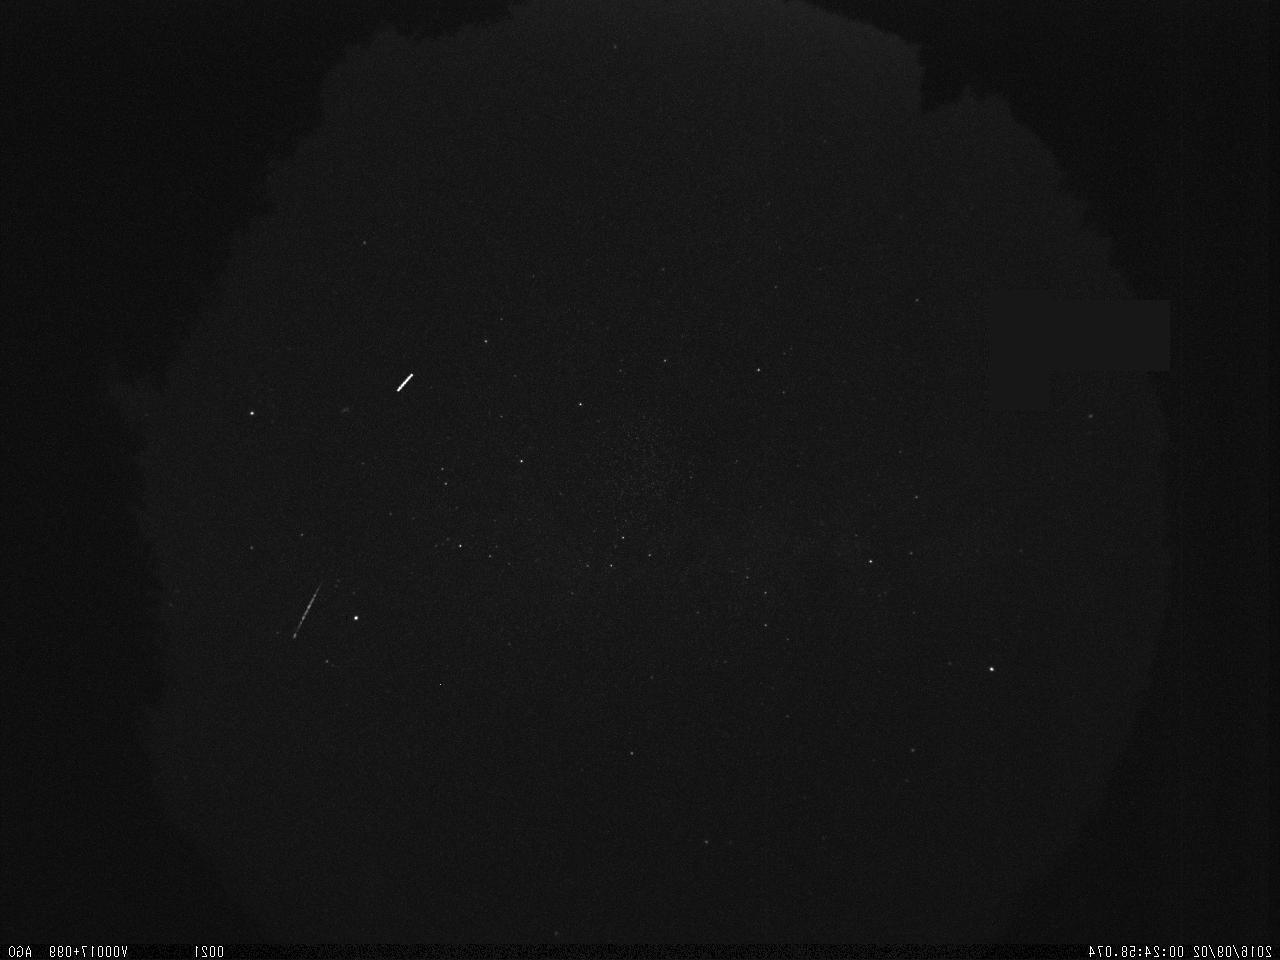meteor: (282, 572, 330, 653)
satelite: (388, 363, 423, 403)
